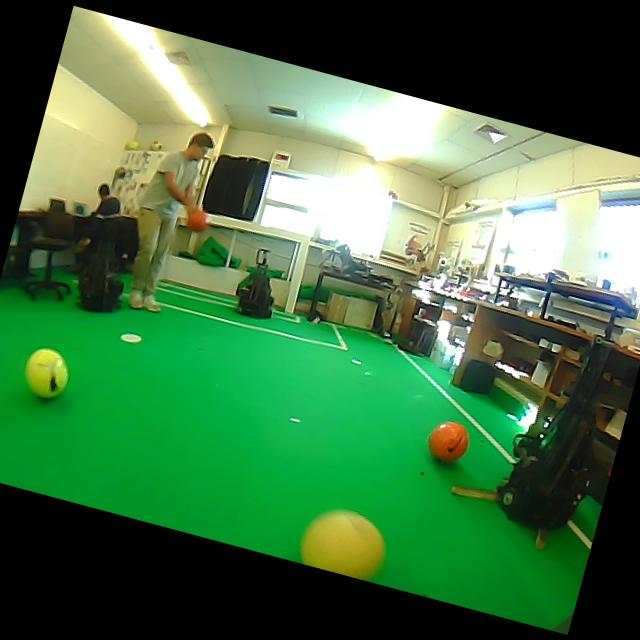ball: (301, 509, 385, 579), (25, 347, 68, 398), (428, 420, 468, 461), (186, 210, 208, 231), (124, 139, 139, 150), (149, 141, 162, 150)
goal: (284, 237, 309, 312)
robot: (496, 338, 610, 529), (78, 252, 124, 311), (236, 248, 272, 318)
